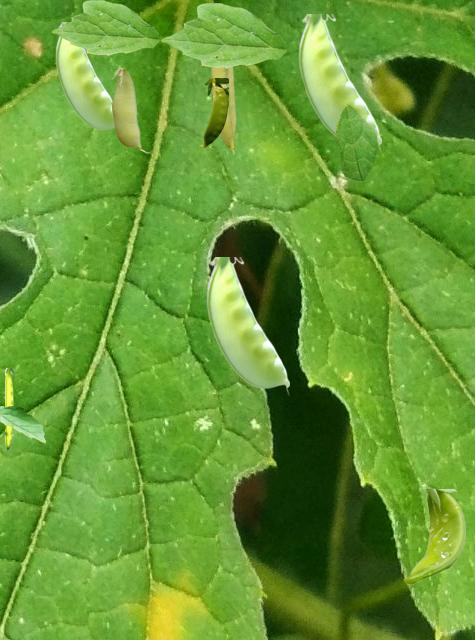pea: (298, 14, 380, 152), (206, 257, 288, 395), (55, 22, 113, 130), (403, 489, 464, 583), (111, 65, 149, 152), (211, 67, 235, 153), (199, 78, 227, 146), (5, 368, 16, 449)
